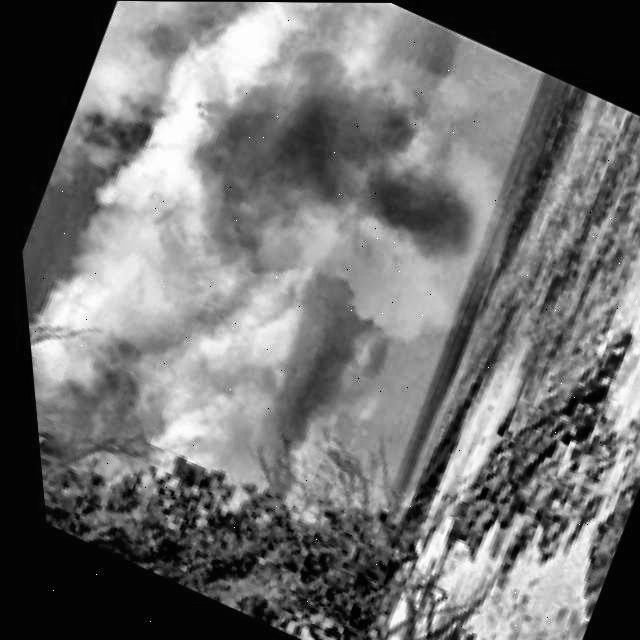Smoke: (106, 1, 560, 436)
